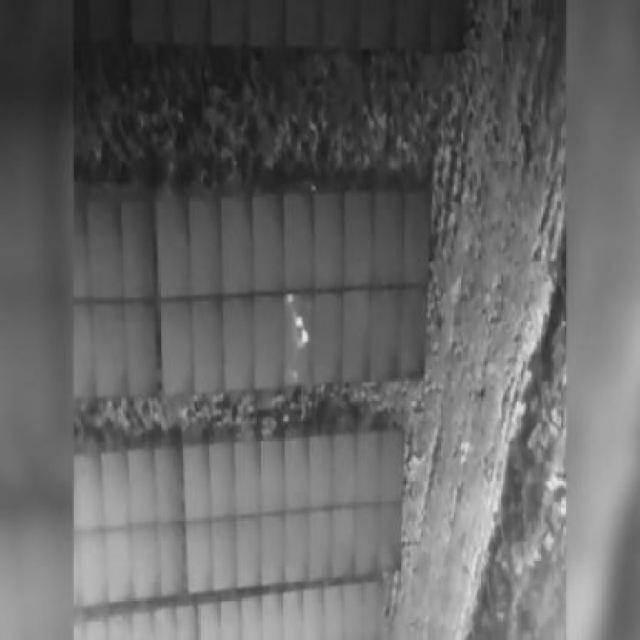hotspot: (302, 331, 310, 347), (296, 315, 304, 330), (286, 291, 294, 303)
